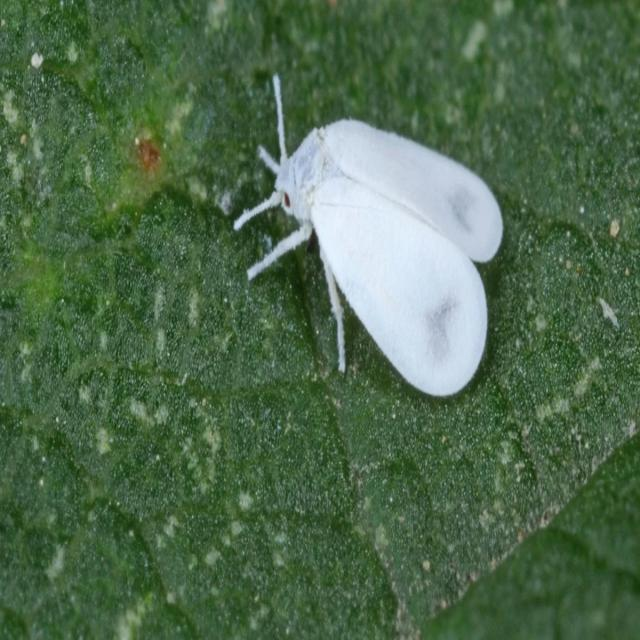Whitefly: (224, 59, 512, 413)
